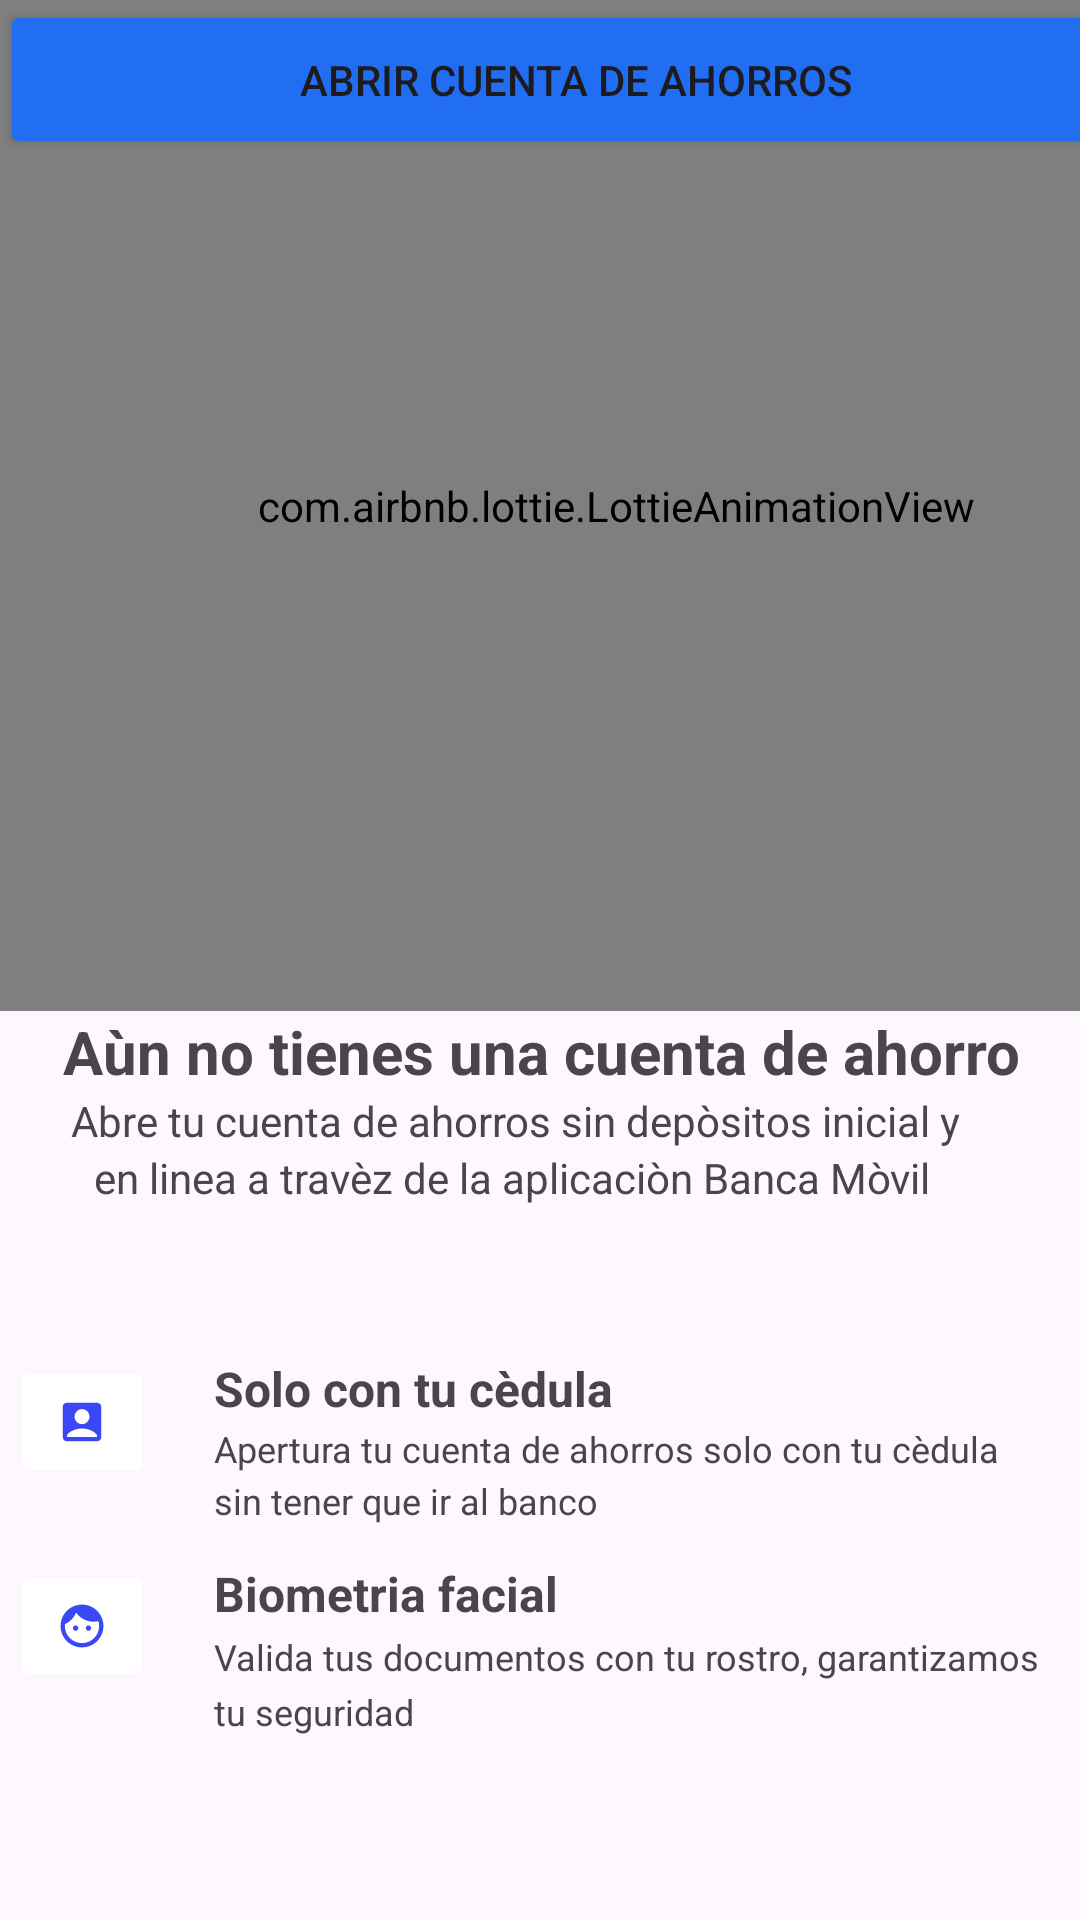

Icons on this 1080×1920 Android screen, each with its box as (x1, y1, x2, y2):
dni: (62, 1402, 102, 1442)
